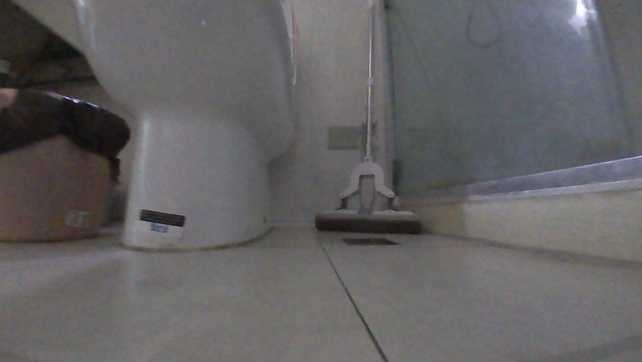toilet: (71, 0, 300, 248)
